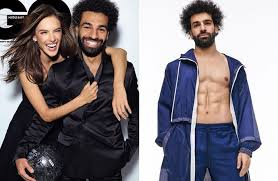middle_eastern_male: (77, 1, 106, 57)
